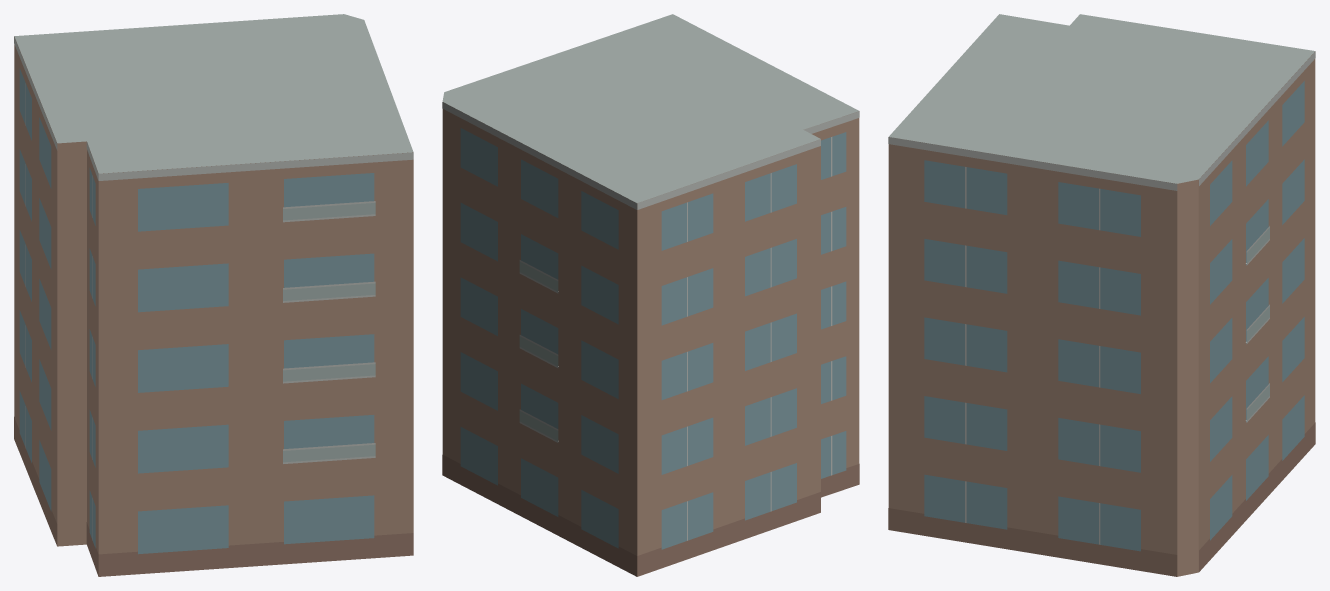
File: survey-upis-33039248.glb
3 renders of one model, left to right at view 1: azimuth 30°, elevation 25°; view 2: azimuth 150°, elevation 25°; view 3: azimuth 270°, elevation 25°, orthographic. The views are drawn at different scales.
Parts seen in each view (by area): view 1: survey-upis-33039248.tmp; view 2: survey-upis-33039248.tmp; view 3: survey-upis-33039248.tmp.
Part boxes in pixels (bbox=[...]): survey-upis-33039248.tmp: bbox=[14, 14, 413, 576]; survey-upis-33039248.tmp: bbox=[442, 14, 859, 576]; survey-upis-33039248.tmp: bbox=[888, 14, 1315, 576].
Size of the model in its own units: 12.33 by 13.3 by 13.1.
